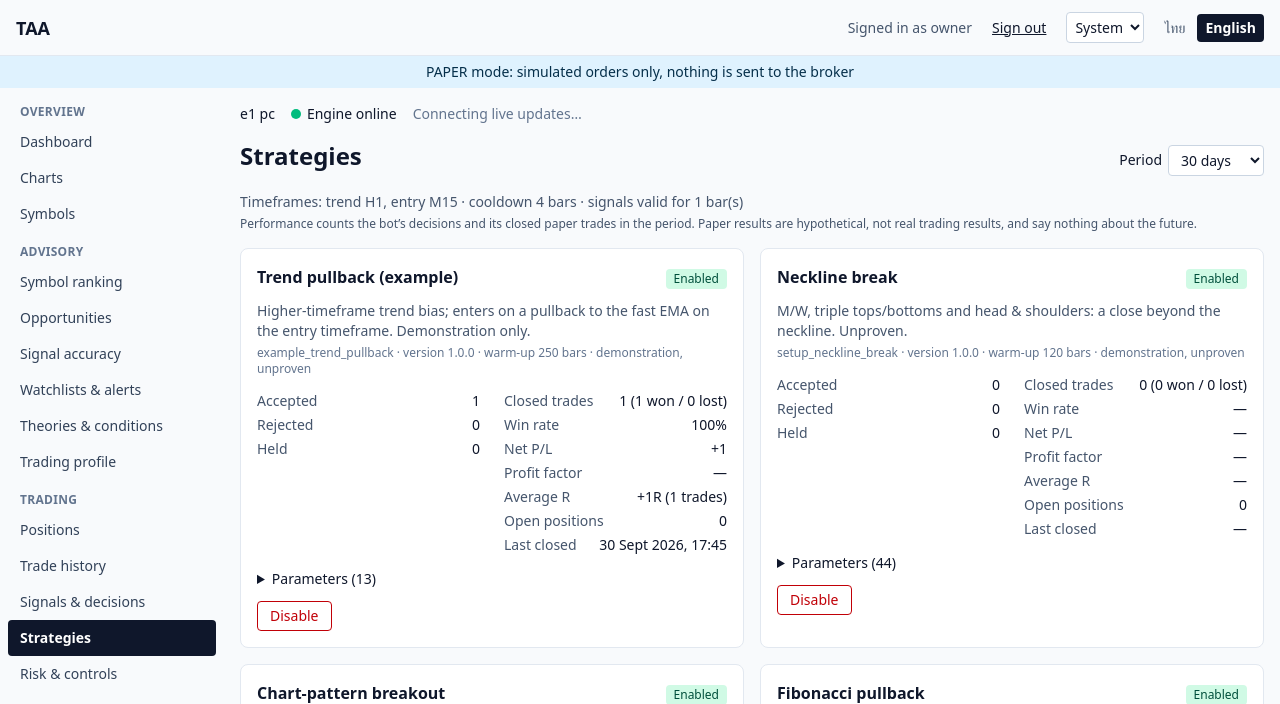
Test: strategies page › skips the code while a step-up is valid and asks again when the server says it ran out
Expected: the element "Trend pullback (example)" shows "example_trend_pullback", [257,344,683,376]
Click the button "Disable" below "Parameters (13)". click: (294, 616)
box: [257,600,332,630]
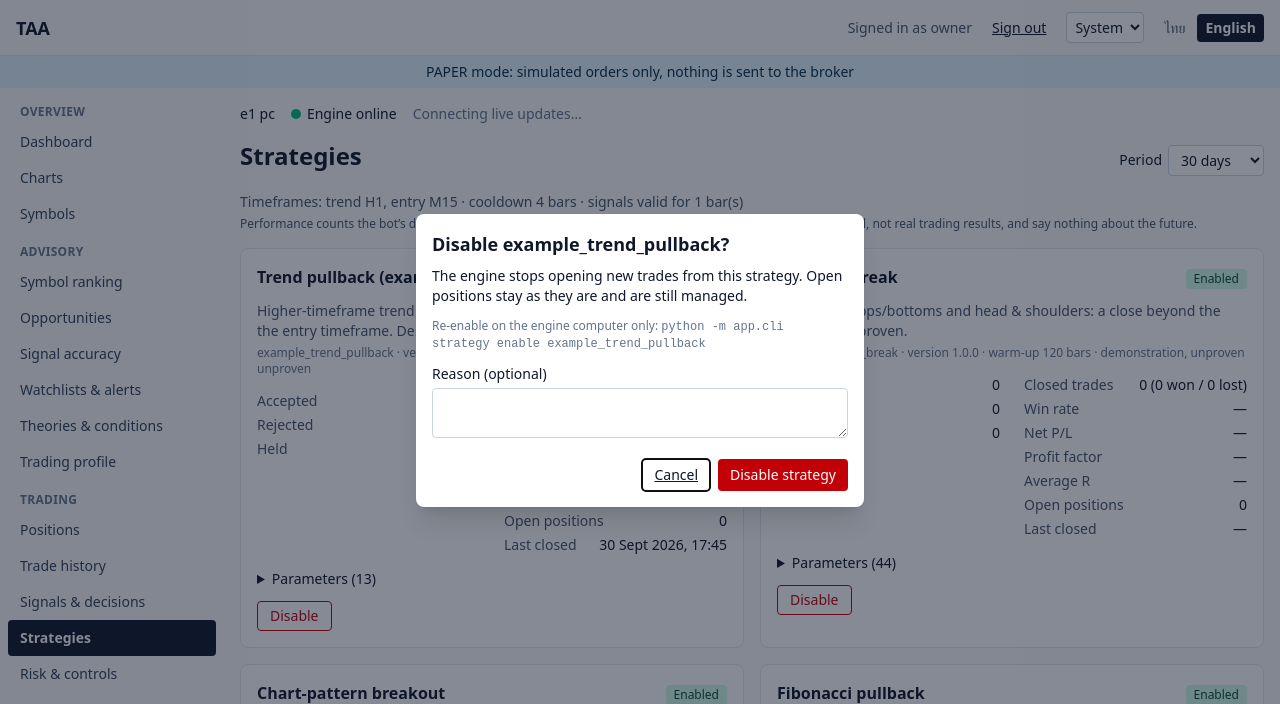
Expected: the field labelled "Authenticator code" is not shown
Click the button "Disable strategy". click: (783, 474)
box: [718,458,848,490]
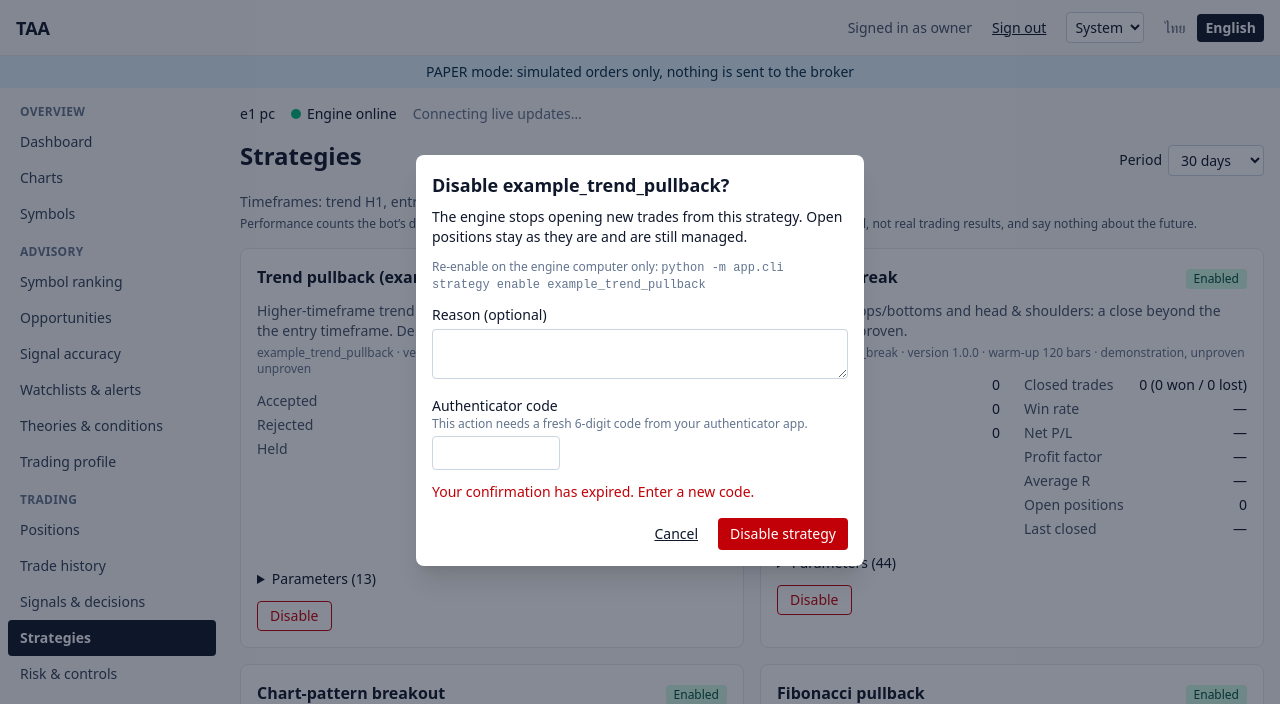
Expected: the text "Your confirmation has expired. Enter a new code." is shown, [432,482,754,500]
Expected: the field labelled "Authenticator code" is shown, [432,436,560,470]
